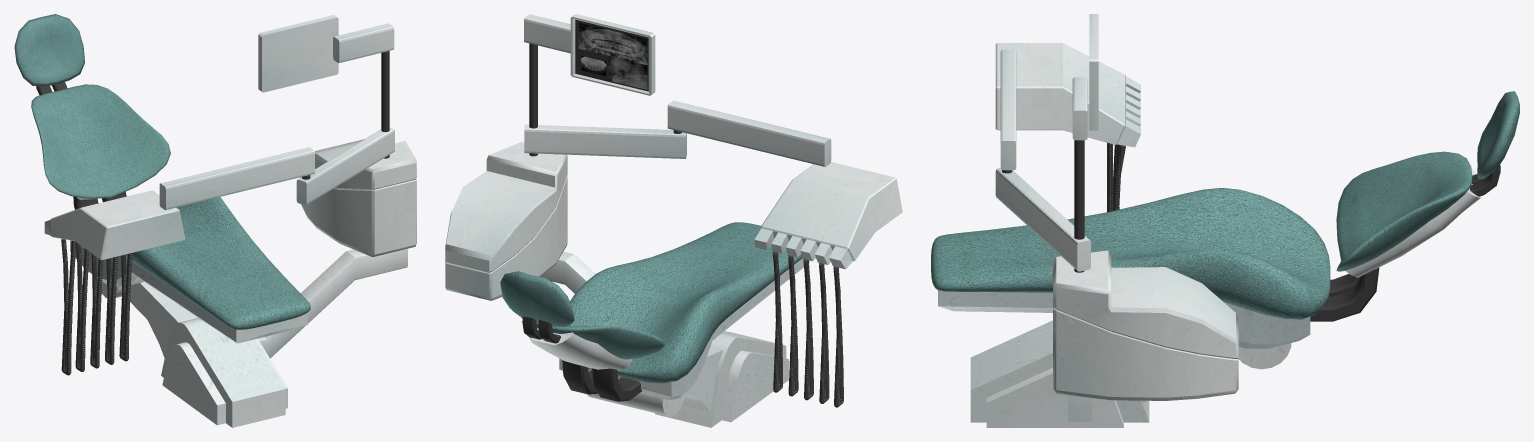
Rendered from KursiPasien.FBX.
3 renders of one model, left to right at view 1: azimuth 30°, elevation 25°; view 2: azimuth 150°, elevation 25°; view 3: azimuth 270°, elevation 25°, orthographic. The views are drawn at different scales.
Parts seen in each view (by area): view 1: KursiPasien; view 2: KursiPasien; view 3: KursiPasien.
Boxes of the visible parts, box(x1,y1,x2,y2) form: KursiPasien: box(14, 14, 416, 427); KursiPasien: box(445, 14, 902, 427); KursiPasien: box(931, 14, 1519, 427).
Size of the model in its own units: 171 by 156 by 197.
2 materials, 2 textured.
